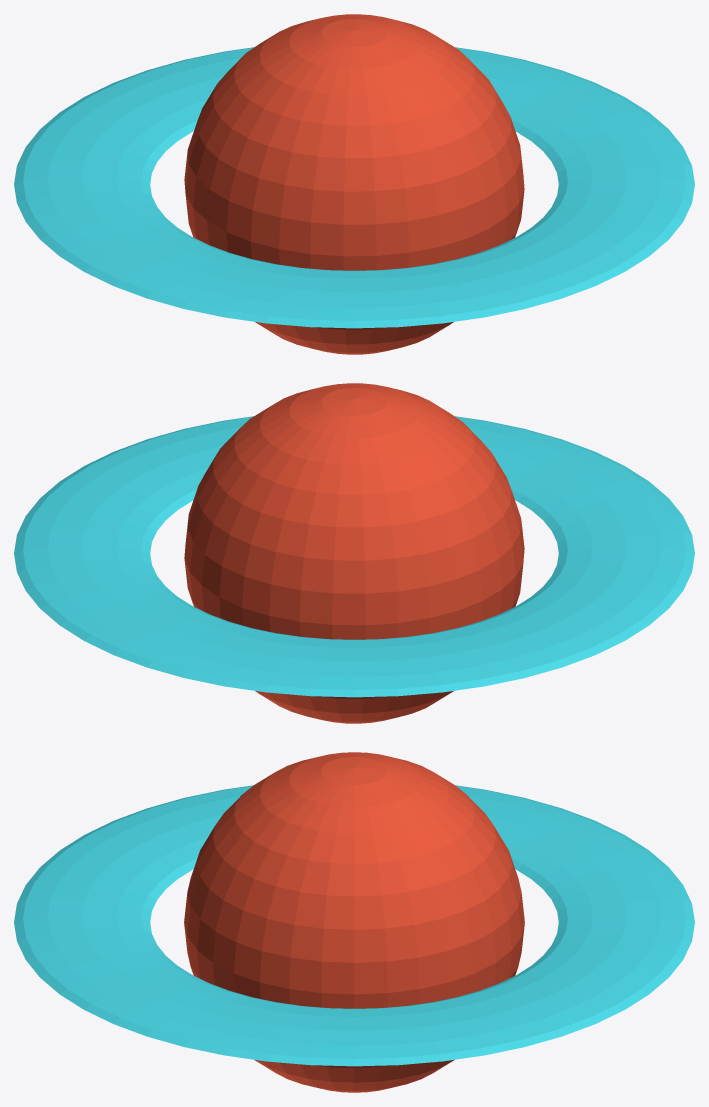
Rendered from planet.glb.
3 views of the same model, one above another, from view 1: azimuth 30°, elevation 25°; view 2: azimuth 150°, elevation 25°; view 3: azimuth 270°, elevation 25° (orthographic).
Parts seen in each view (by area): view 1: Torus, Sphere; view 2: Torus, Sphere; view 3: Torus, Sphere.
Part boxes in pixels (left/top/right/bottom): Torus: left=14, top=47, right=694, bottom=328; Sphere: left=184, top=14, right=524, bottom=354; Torus: left=14, top=416, right=694, bottom=697; Sphere: left=184, top=383, right=524, bottom=723; Torus: left=14, top=785, right=694, bottom=1066; Sphere: left=184, top=752, right=524, bottom=1092.
Bounding box in the file's own units: 4 × 2 × 4.
